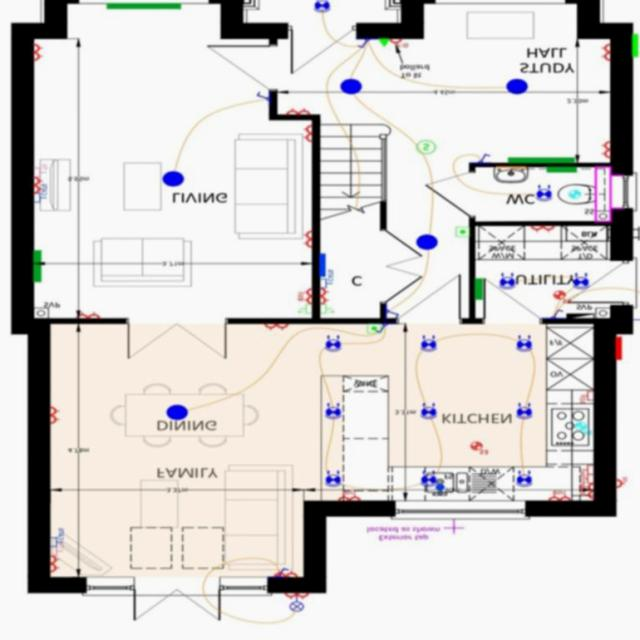BT Entry Point: (378, 40, 388, 47)
Cat 6 Data Socket: (319, 270, 333, 290), (50, 529, 63, 548), (33, 184, 46, 203)
Ceiling Mounted Continuous Extract FanWith Boost Mode Activated By Light Switch: (569, 190, 580, 200)
Ceiling Mounted Continuous Extract FanWith Local Boost Switch: (470, 442, 487, 456), (553, 292, 570, 305)
Co-Ax TV Socket: (50, 545, 62, 558), (33, 165, 46, 177)
D: (284, 594, 308, 601)
Double Socket: (49, 407, 59, 425), (264, 325, 288, 332), (274, 571, 295, 579), (50, 556, 59, 574), (302, 125, 311, 143), (33, 44, 42, 62), (319, 289, 329, 305), (600, 142, 609, 159), (530, 227, 554, 233), (302, 232, 311, 248), (285, 109, 309, 115), (76, 313, 99, 319), (34, 177, 42, 194), (600, 46, 609, 61)
Electric Meter Box: (614, 337, 621, 361)
External Wall Light: (288, 596, 302, 612), (632, 316, 640, 326)
Fused spur: (389, 40, 407, 49)
Gas Meter Box: (631, 35, 637, 58)
Grid Switch: (579, 476, 593, 490)
Hob Switch: (579, 466, 593, 478)
Light Switch: (276, 568, 288, 580), (550, 309, 563, 319), (256, 92, 268, 102), (375, 325, 387, 334), (386, 310, 398, 319), (357, 41, 369, 49)
Low Energy Downlighter: (323, 403, 341, 421), (419, 403, 436, 421), (323, 471, 340, 488), (515, 471, 532, 488), (515, 404, 532, 421), (535, 185, 552, 202), (572, 273, 588, 291), (324, 337, 341, 353), (420, 471, 436, 488), (420, 336, 436, 353), (515, 336, 531, 353), (498, 274, 514, 290), (313, 0, 329, 14)
Low Energy Pendant Light: (165, 406, 187, 422), (339, 80, 361, 96), (415, 235, 437, 251), (505, 80, 527, 95), (162, 172, 183, 187)
Mains Wired Smoke Detector: (416, 142, 434, 156)
Outside Socket: (615, 477, 627, 489)
Outside Tap: (443, 520, 464, 536)
Oven Switch: (579, 392, 593, 405)
Programmable Room Thermostat: (455, 228, 468, 238), (366, 326, 381, 334)
Radiator: (106, 4, 180, 10), (508, 158, 573, 164), (32, 251, 41, 283), (474, 279, 482, 301), (547, 168, 575, 173)
Recirculating Extractor Fan: (574, 423, 591, 436)
Telephone Socket: (297, 305, 311, 316), (319, 306, 334, 315)
USB Double Socket: (337, 491, 360, 502), (547, 490, 568, 502), (579, 484, 593, 500), (297, 289, 311, 305)
Underfloor Heating Manifold: (319, 254, 325, 278)
Water Entry Position: (435, 485, 444, 491)
